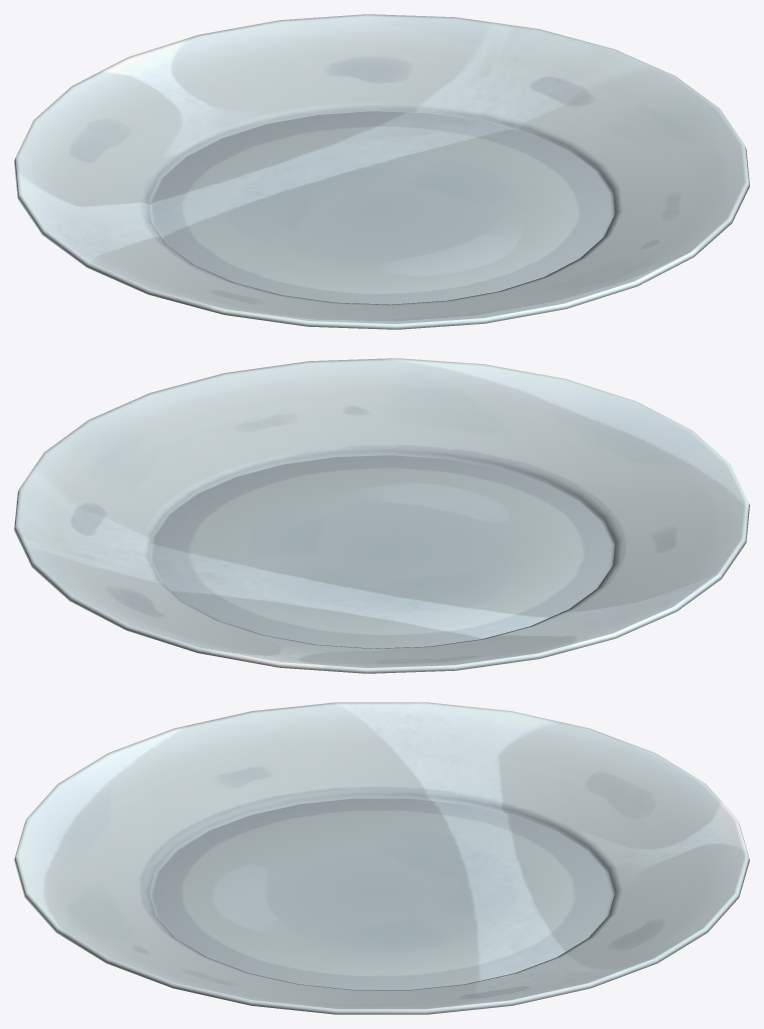
Rendered from PlateSmall.fbx.
The picture shows the model from 3 angles, top to bottom: view 1: azimuth 30°, elevation 25°; view 2: azimuth 150°, elevation 25°; view 3: azimuth 270°, elevation 25°; orthographic projection.
Parts seen in each view (by area): view 1: PlateSmall; view 2: PlateSmall; view 3: PlateSmall.
Part boxes in pixels (x1,y1,x2,y2): PlateSmall: (14,14,749,329); PlateSmall: (14,358,749,673); PlateSmall: (14,702,749,1014).
Size of the model in its own units: 49.68 by 3.29 by 50.04.
